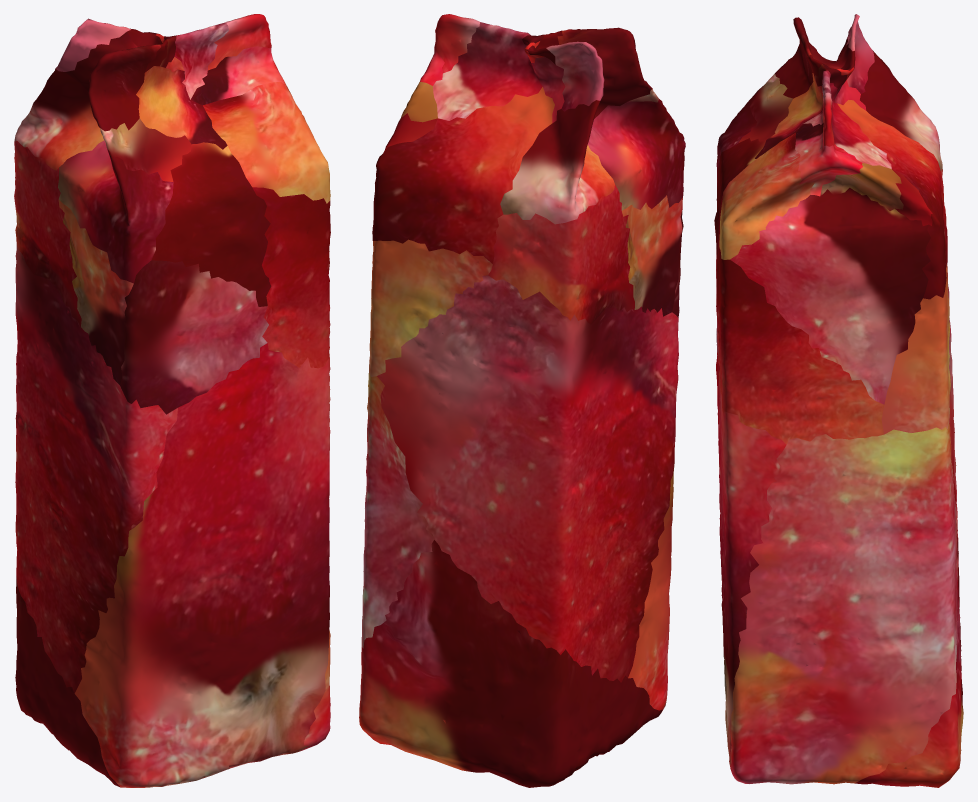
Rendered from 3DModel.obj.
The picture shows the model from 3 angles, left to right: view 1: azimuth 30°, elevation 25°; view 2: azimuth 150°, elevation 25°; view 3: azimuth 270°, elevation 25°; orthographic projection. The views are drawn at different scales.
Visible parts, largest first — view 1: 3DModel; view 2: 3DModel; view 3: 3DModel.
Part boxes in pixels (box(x1,y1,x2,y2)): 3DModel: box(14, 14, 330, 787); 3DModel: box(359, 14, 685, 787); 3DModel: box(714, 14, 963, 787).
Bounding box in the file's own units: 0.0759 × 0.2406 × 0.0779.
